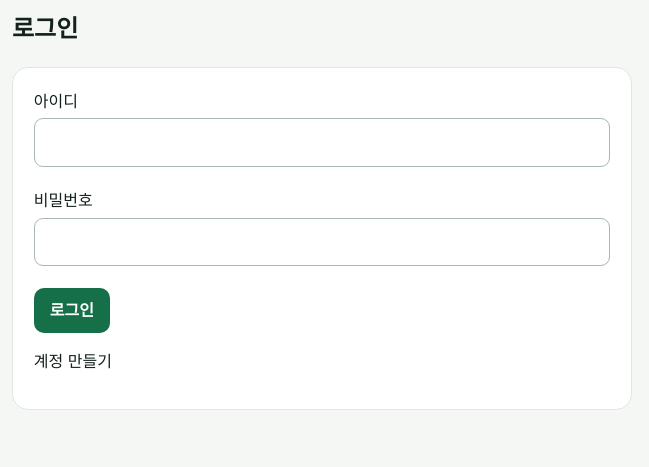
Test: 폼 검증과 오류 표시 › 로그인 API 오류를 사용자에게 표시한다
Step 1. Type "valid_user" into the field labelled "아이디" → (322, 142), box top-left (34, 118), bottom-right (610, 167)
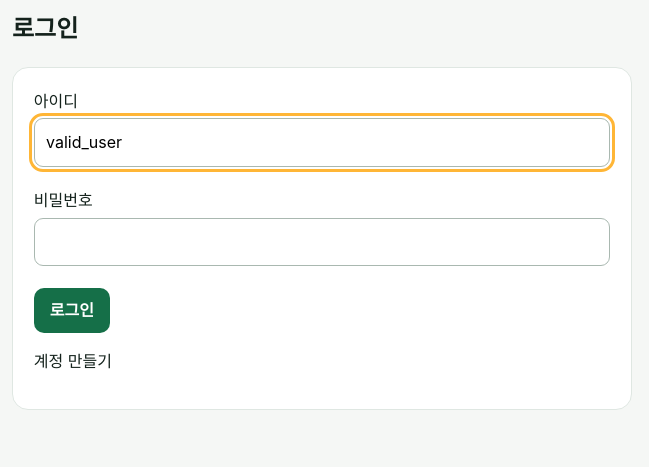
Step 2. Type "wrong-password" into the password field labelled "비밀번호" → (322, 242), box top-left (34, 218), bottom-right (610, 266)
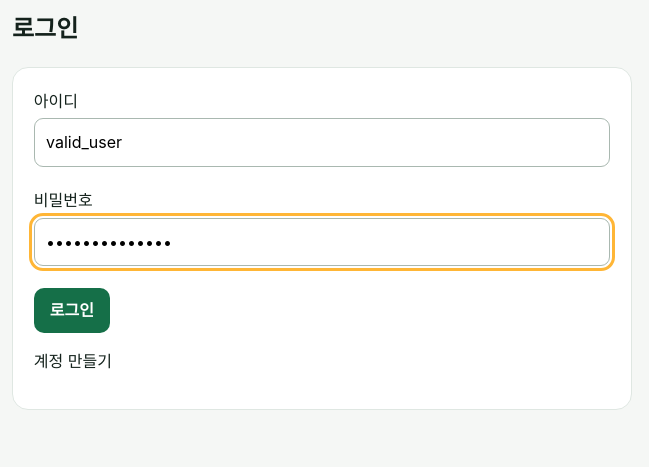
Step 3. Click the button "로그인" → (72, 310), box top-left (34, 288), bottom-right (110, 332)
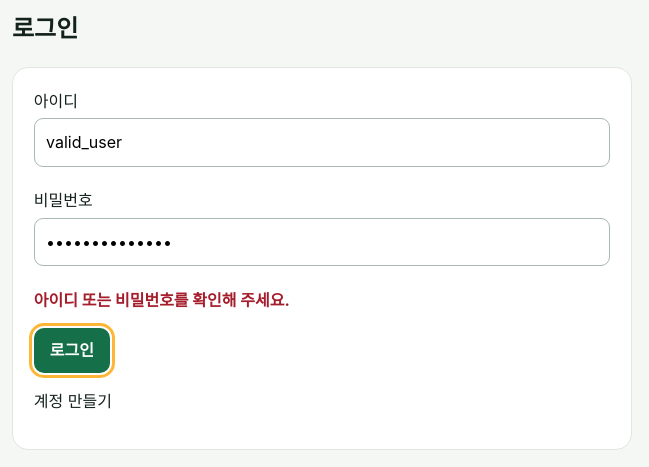
Now the message shows "아이디 또는 비밀번호", box top-left (34, 290), bottom-right (290, 310)
